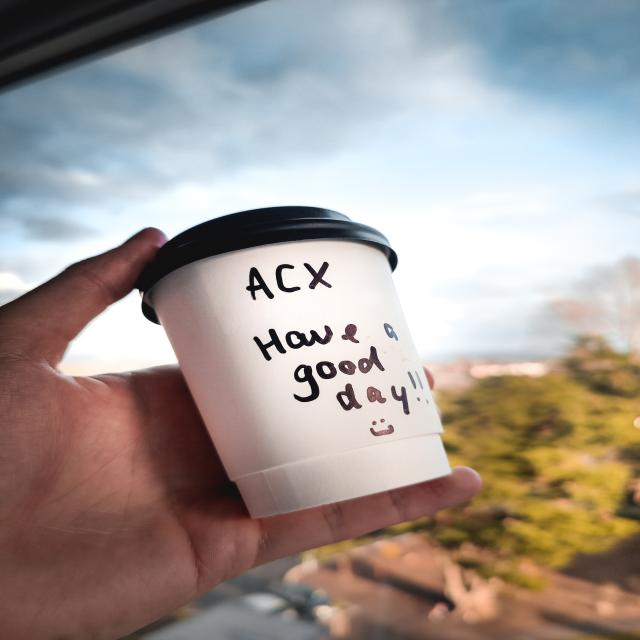cup: (136, 205, 458, 520)
